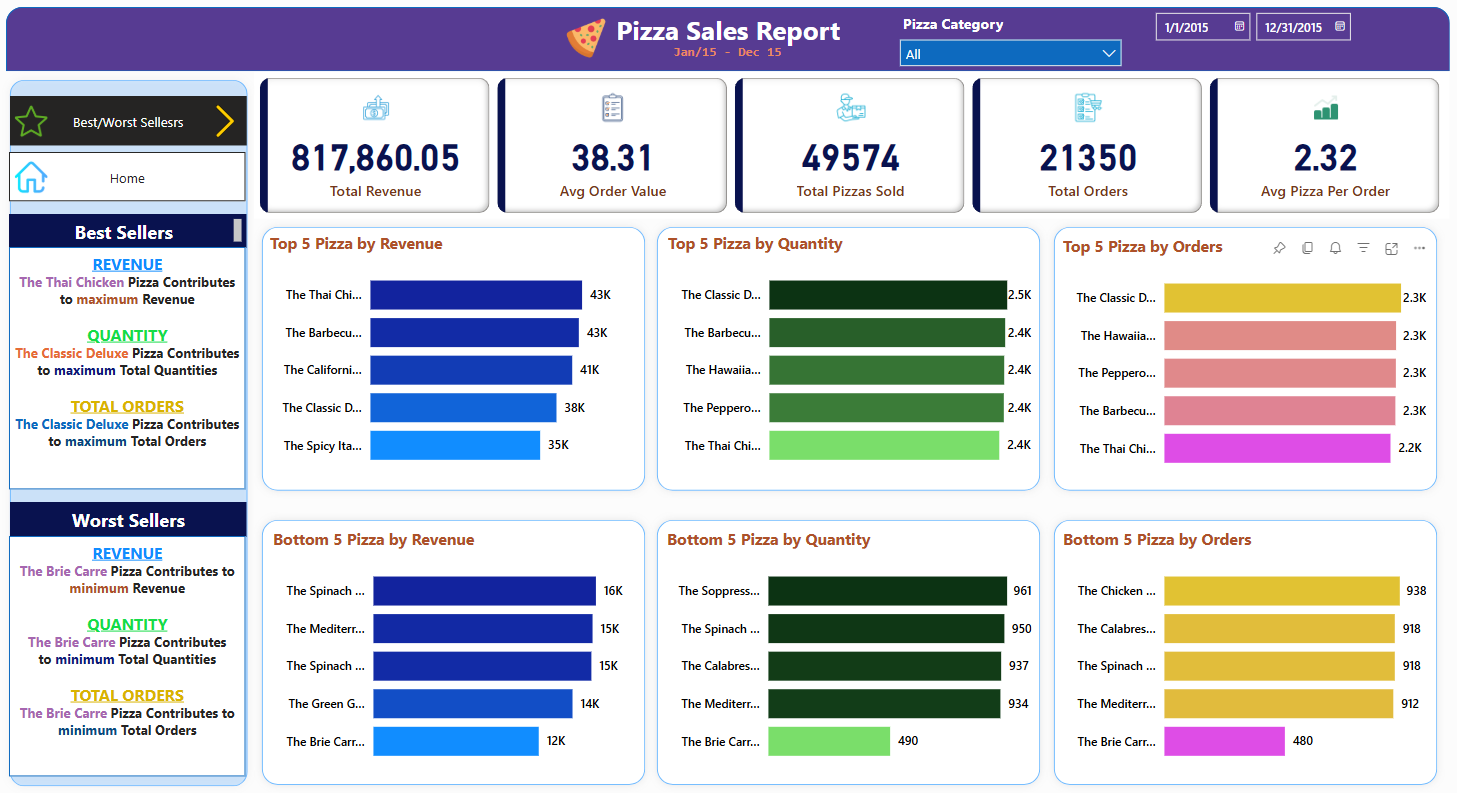

The dashboard page shown, as its layout file describes it:
{"tool":"powerbi","page":{"name":"Best/Worst Sellesrs","canvas":[1500,820],"ordinal":1},"visuals":[{"type":"cardVisual","title":"KPI","fields":{"Data":["pizza_sales.Total Revenue","pizza_sales.Avg Order Value","pizza_sales.Total Pizzas Sold","pizza_sales.Total Orders","pizza_sales.Avg Pizza Per Order"]},"box":[270.1,75.9,1213.3,149.3],"z":0},{"type":"shape","box":[18.1,10.6,1465.3,65.3],"z":1000},{"type":"textbox","box":[624.8,9.3,252,57.3],"z":2000},{"type":"textbox","box":[686.5,40.7,128.6,31.4],"z":3000},{"type":"image","box":[580.8,15.9,53.3,50.7],"z":4000},{"type":"shape","box":[270,225,405,283.8],"z":5000},{"type":"shape","box":[14.3,75.7,257.1,732.9],"z":6000},{"type":"textbox","box":[21.2,220,240.6,34.4],"z":7000},{"type":"textbox","box":[21.2,253.8,240,246.2],"z":8000},{"type":"textbox","box":[22.5,512.5,240,35],"z":9000},{"type":"textbox","box":[21.2,547.5,240,243.8],"z":10000},{"type":"slicer","fields":{"Values":["pizza_sales.pizza_category"]},"box":[915,11.2,245,61.2],"z":11000},{"type":"slicer","fields":{"Values":["pizza_sales.order_date"]},"box":[1172.5,6.2,223.8,71.2],"z":12000},{"type":"shape","box":[671.2,225,405,283.8],"z":13000},{"type":"shape","box":[1073.8,225,405,283.8],"z":14000},{"type":"shape","box":[270,522.5,405,285],"z":15000},{"type":"shape","box":[671.2,522.5,405,285],"z":16000},{"type":"shape","box":[1073.8,522.5,405,285],"z":17000},{"type":"barChart","title":"Top 5 Pizza by Revenue","fields":{"Category":["pizza_sales.pizza_name"],"Y":["pizza_sales.Total Revenue"]},"box":[281.2,238.8,377.5,252.5],"z":18000},{"type":"barChart","title":"Bottom 5 Pizza by Revenue","fields":{"Category":["pizza_sales.pizza_name"],"Y":["pizza_sales.Total Revenue"]},"box":[283.8,538.8,377.5,252.5],"z":19000},{"type":"barChart","title":"Top 5 Pizza by Quantity","fields":{"Category":["pizza_sales.pizza_name"],"Y":["pizza_sales.Total Pizzas Sold"]},"box":[685,238.8,378.8,252.5],"z":20000},{"type":"barChart","title":"Bottom 5 Pizza by Quantity","fields":{"Category":["pizza_sales.pizza_name"],"Y":["pizza_sales.Total Pizzas Sold"]},"box":[683.8,538.8,380,252.5],"z":21000},{"type":"barChart","title":"Top 5 Pizza by Orders","fields":{"Category":["pizza_sales.pizza_name"],"Y":["pizza_sales.Total Orders"]},"box":[1086.2,241.2,378.8,252.5],"z":22000},{"type":"barChart","title":"Bottom 5 Pizza by Orders","fields":{"Category":["pizza_sales.pizza_name"],"Y":["pizza_sales.Total Orders"]},"box":[1086.2,538.8,378.8,252.5],"z":23000},{"type":"pageNavigator","box":[22.5,100,240,50],"z":23001},{"type":"pageNavigator","box":[21.2,157.5,240,50],"z":23002},{"type":"image","box":[218.8,100,42.5,50],"z":23003},{"type":"image","box":[22.5,157.5,42.5,50],"z":23004},{"type":"image","box":[22.5,100,42.5,51.2],"z":23005}]}

Visuals, with their boxes in screenshot pixels (x1, y1, x2, y2), scaled from the page's 1500x820 canvas onto the 1457x793 screenshot:
"KPI" cardVisual: (262,73,1441,218)
shape: (18,10,1441,73)
textbox: (607,9,852,64)
textbox: (667,39,792,70)
image: (564,15,616,64)
shape: (262,218,656,492)
shape: (14,73,264,782)
textbox: (21,213,254,246)
textbox: (21,245,254,484)
textbox: (22,496,255,529)
textbox: (21,529,254,765)
slicer - pizza_sales.pizza_category: (889,11,1127,70)
slicer - pizza_sales.order_date: (1139,6,1356,75)
shape: (652,218,1045,492)
shape: (1043,218,1436,492)
shape: (262,505,656,781)
shape: (652,505,1045,781)
shape: (1043,505,1436,781)
"Top 5 Pizza by Revenue" barChart: (273,231,640,475)
"Bottom 5 Pizza by Revenue" barChart: (276,521,642,765)
"Top 5 Pizza by Quantity" barChart: (665,231,1033,475)
"Bottom 5 Pizza by Quantity" barChart: (664,521,1033,765)
"Top 5 Pizza by Orders" barChart: (1055,233,1423,477)
"Bottom 5 Pizza by Orders" barChart: (1055,521,1423,765)
pageNavigator: (22,97,255,145)
pageNavigator: (21,152,254,201)
image: (213,97,254,145)
image: (22,152,63,201)
image: (22,97,63,146)
